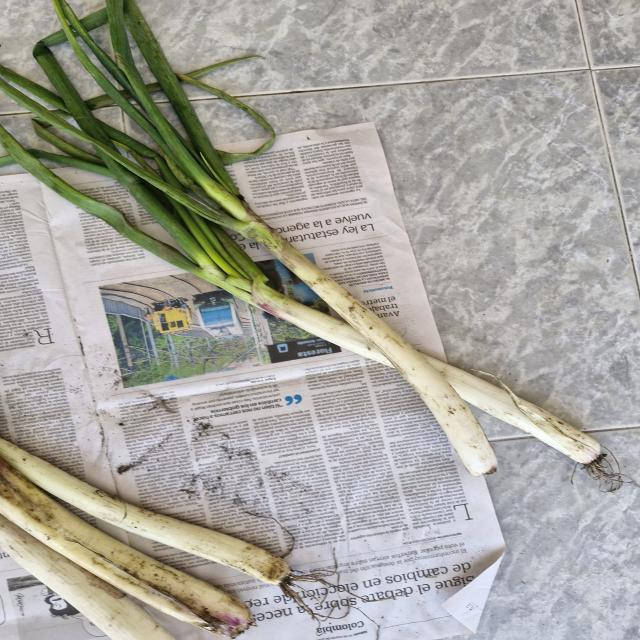green_onion: (0, 0, 615, 498)
